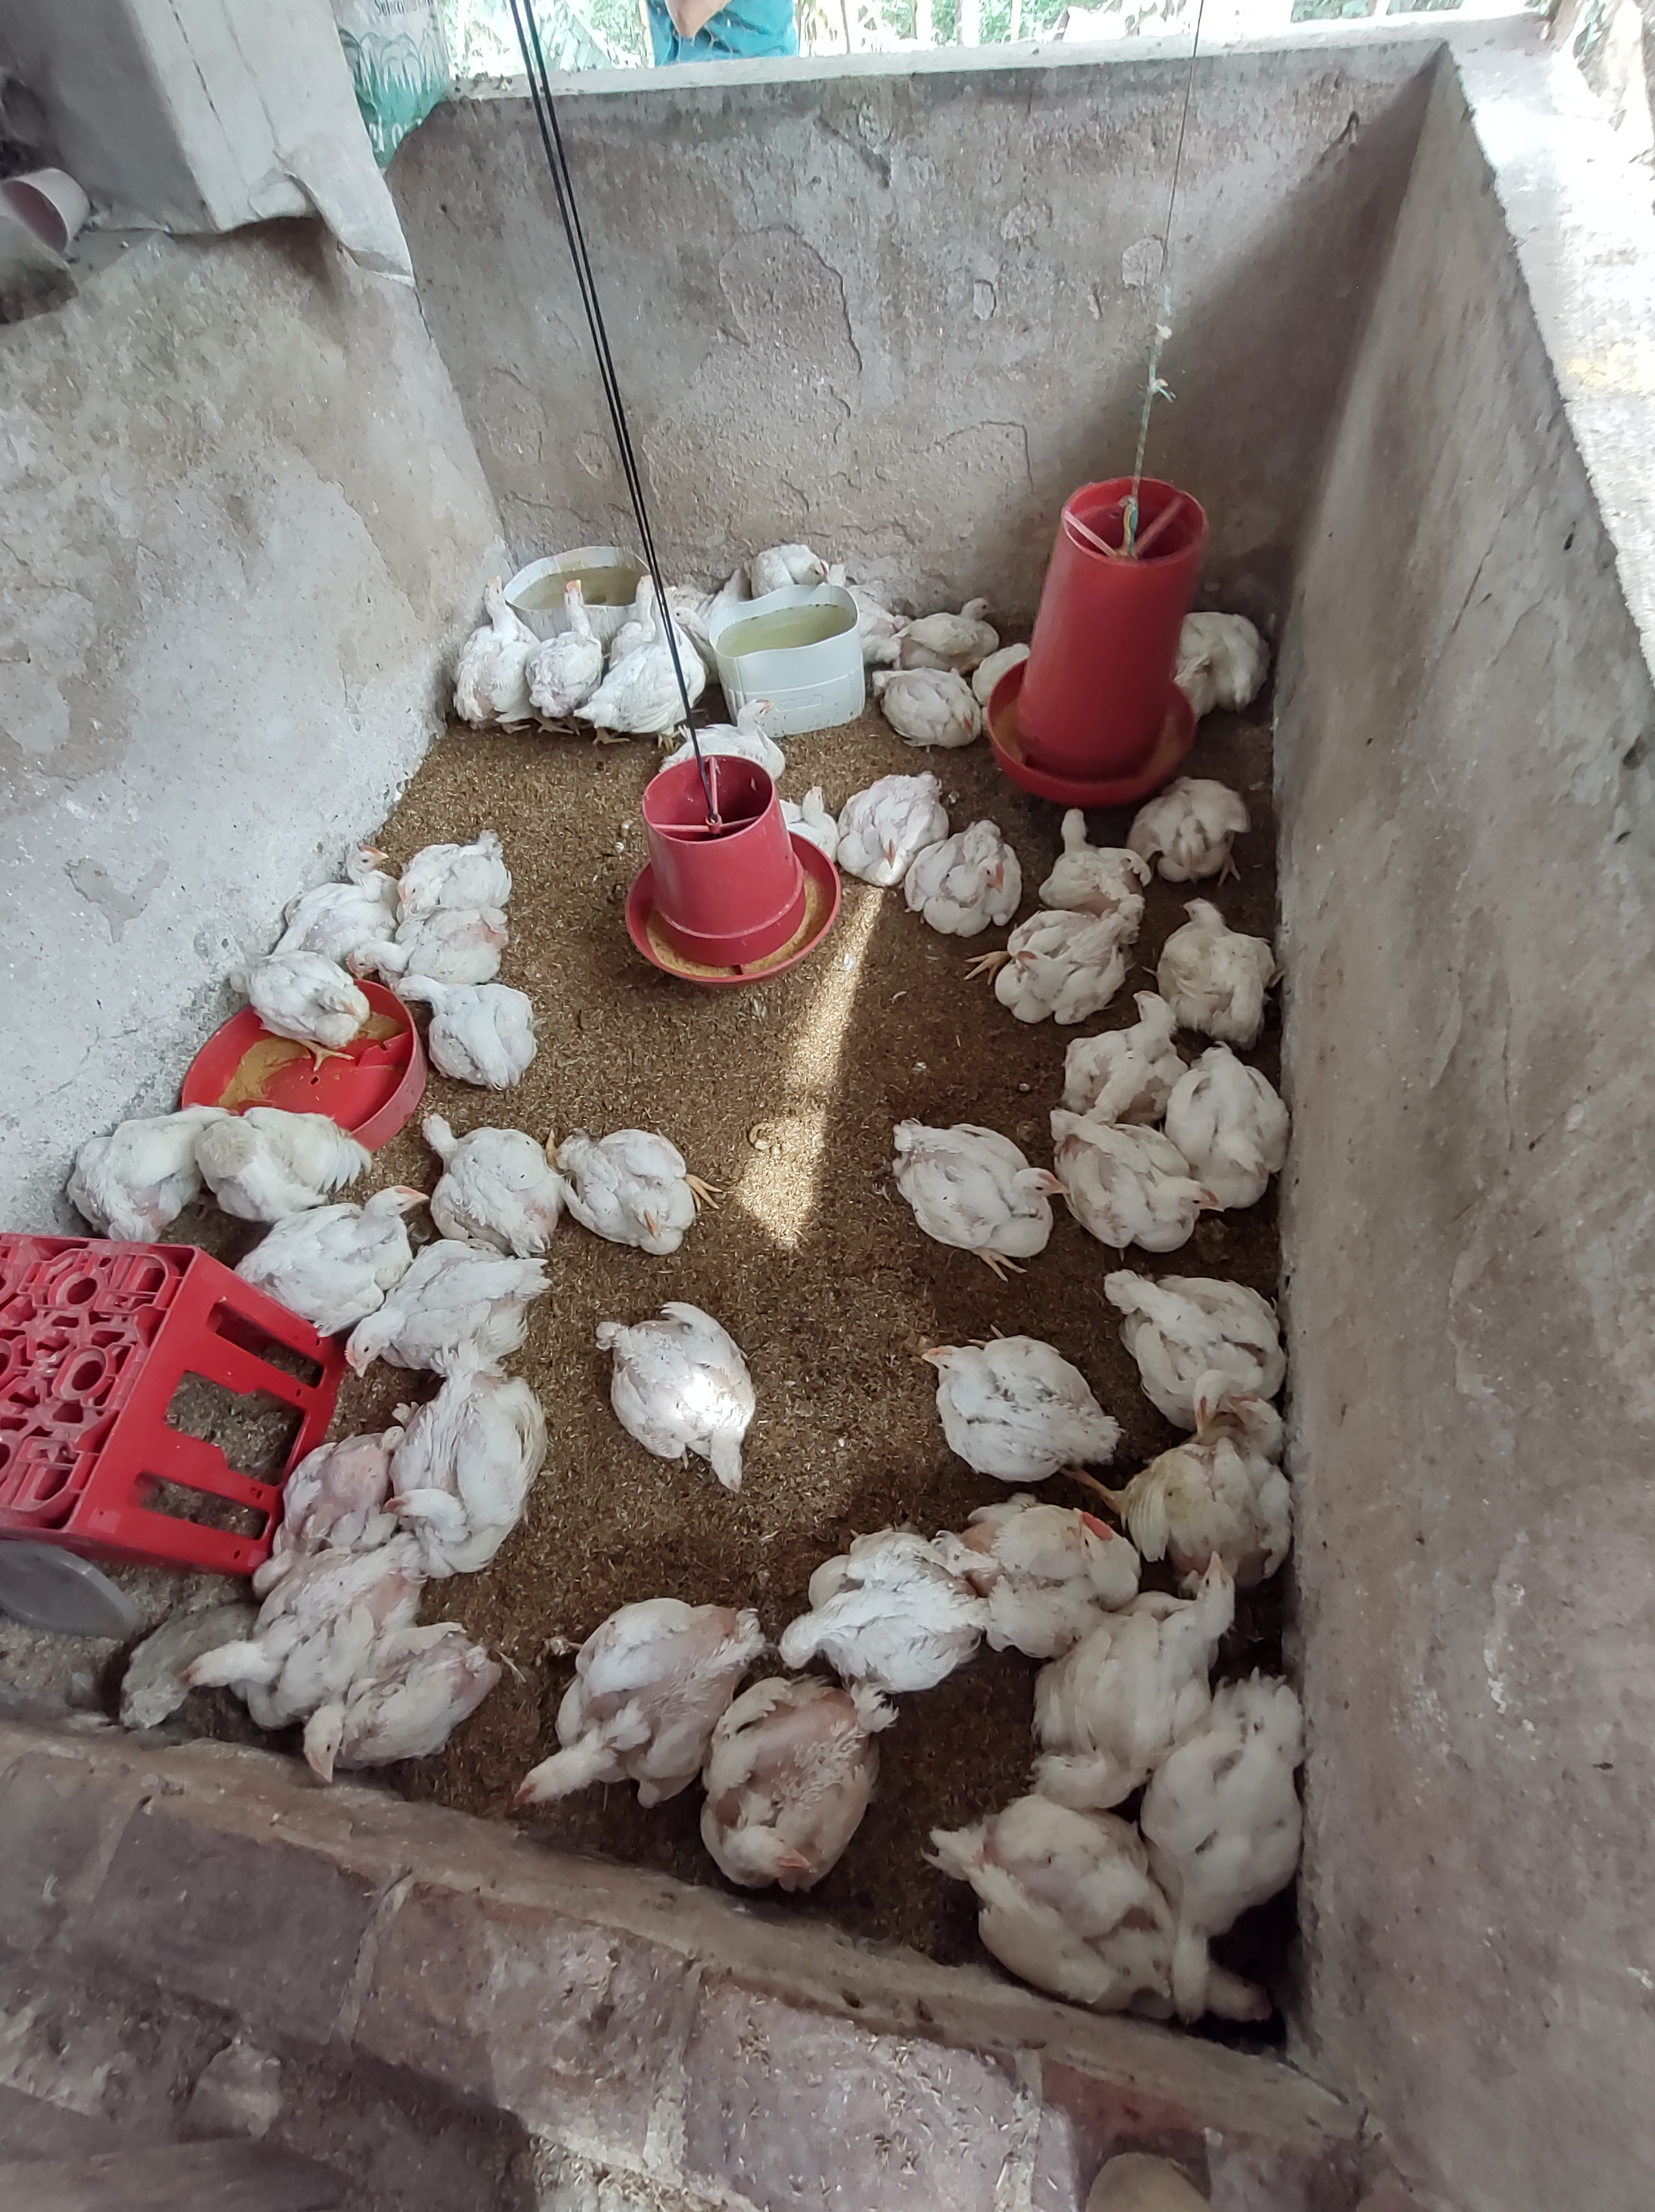Pollos: (1146, 1675, 1307, 2036), (506, 1602, 765, 1821), (1043, 1549, 1243, 1805), (709, 1680, 890, 1896), (181, 1551, 403, 1696), (302, 1621, 490, 1788), (396, 1355, 542, 1569), (918, 1329, 1120, 1483), (595, 1315, 760, 1492), (779, 1542, 980, 1682), (953, 1494, 1135, 1647), (342, 1254, 551, 1379), (897, 1123, 1069, 1263), (257, 1417, 395, 1579), (1116, 1263, 1236, 1436), (250, 1183, 419, 1299), (421, 1109, 556, 1252), (560, 1129, 704, 1257), (1057, 1136, 1227, 1242), (391, 979, 548, 1089), (1170, 899, 1279, 1045), (1191, 1038, 1285, 1205), (205, 1109, 365, 1203), (1067, 995, 1186, 1122), (229, 955, 372, 1043), (610, 591, 695, 732), (1139, 777, 1252, 883), (447, 574, 528, 718), (1000, 920, 1121, 1014), (1224, 1398, 1297, 1549), (379, 903, 511, 984), (528, 572, 602, 720), (838, 776, 942, 873), (1180, 610, 1273, 716), (1053, 805, 1144, 913), (927, 833, 1027, 929), (395, 828, 511, 909), (869, 670, 991, 746), (313, 840, 395, 951), (897, 593, 1001, 668), (688, 694, 794, 756), (749, 543, 841, 591)
